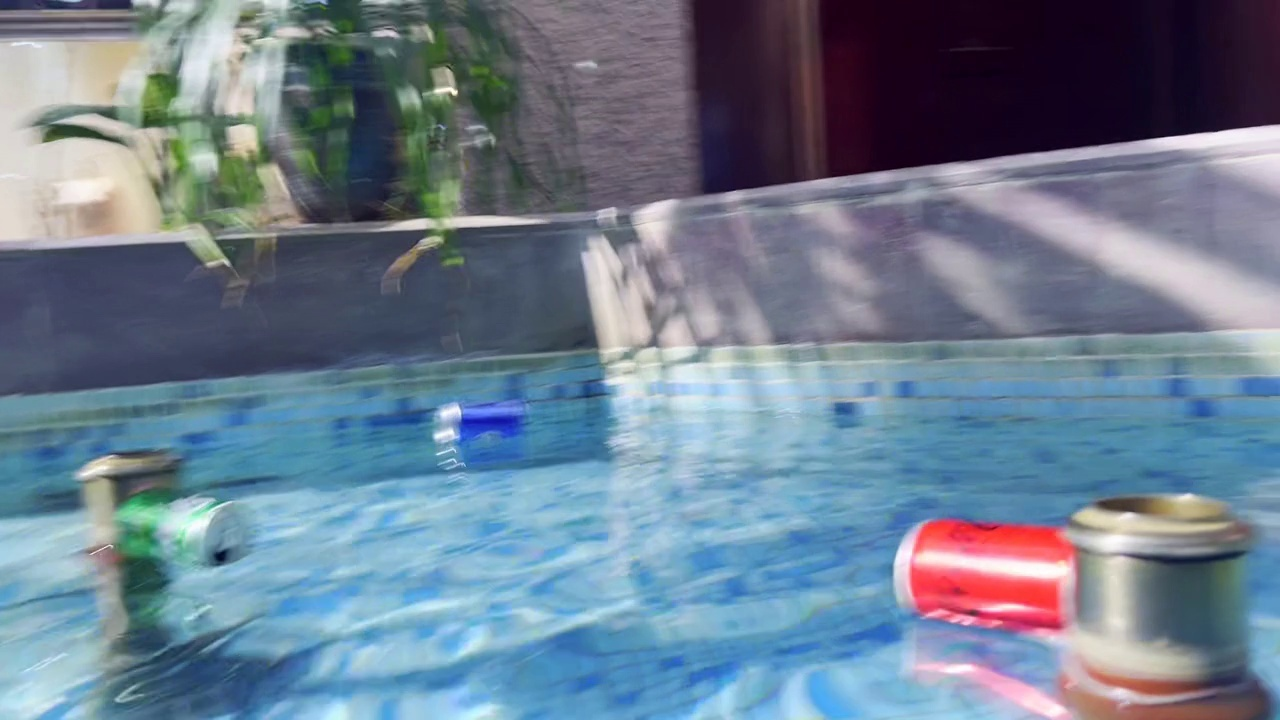debris: (879, 498, 1101, 645), (106, 478, 257, 576), (425, 396, 540, 450)
